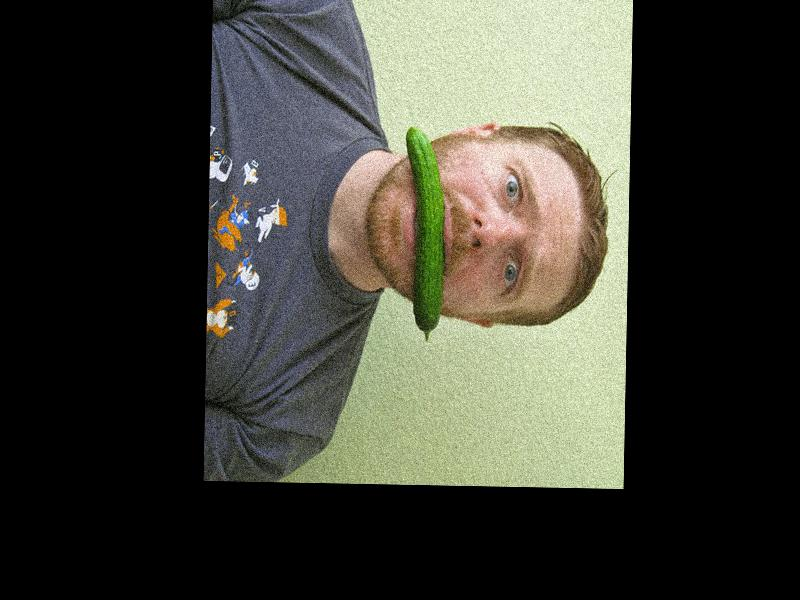Cucumber: (401, 124, 446, 341)
